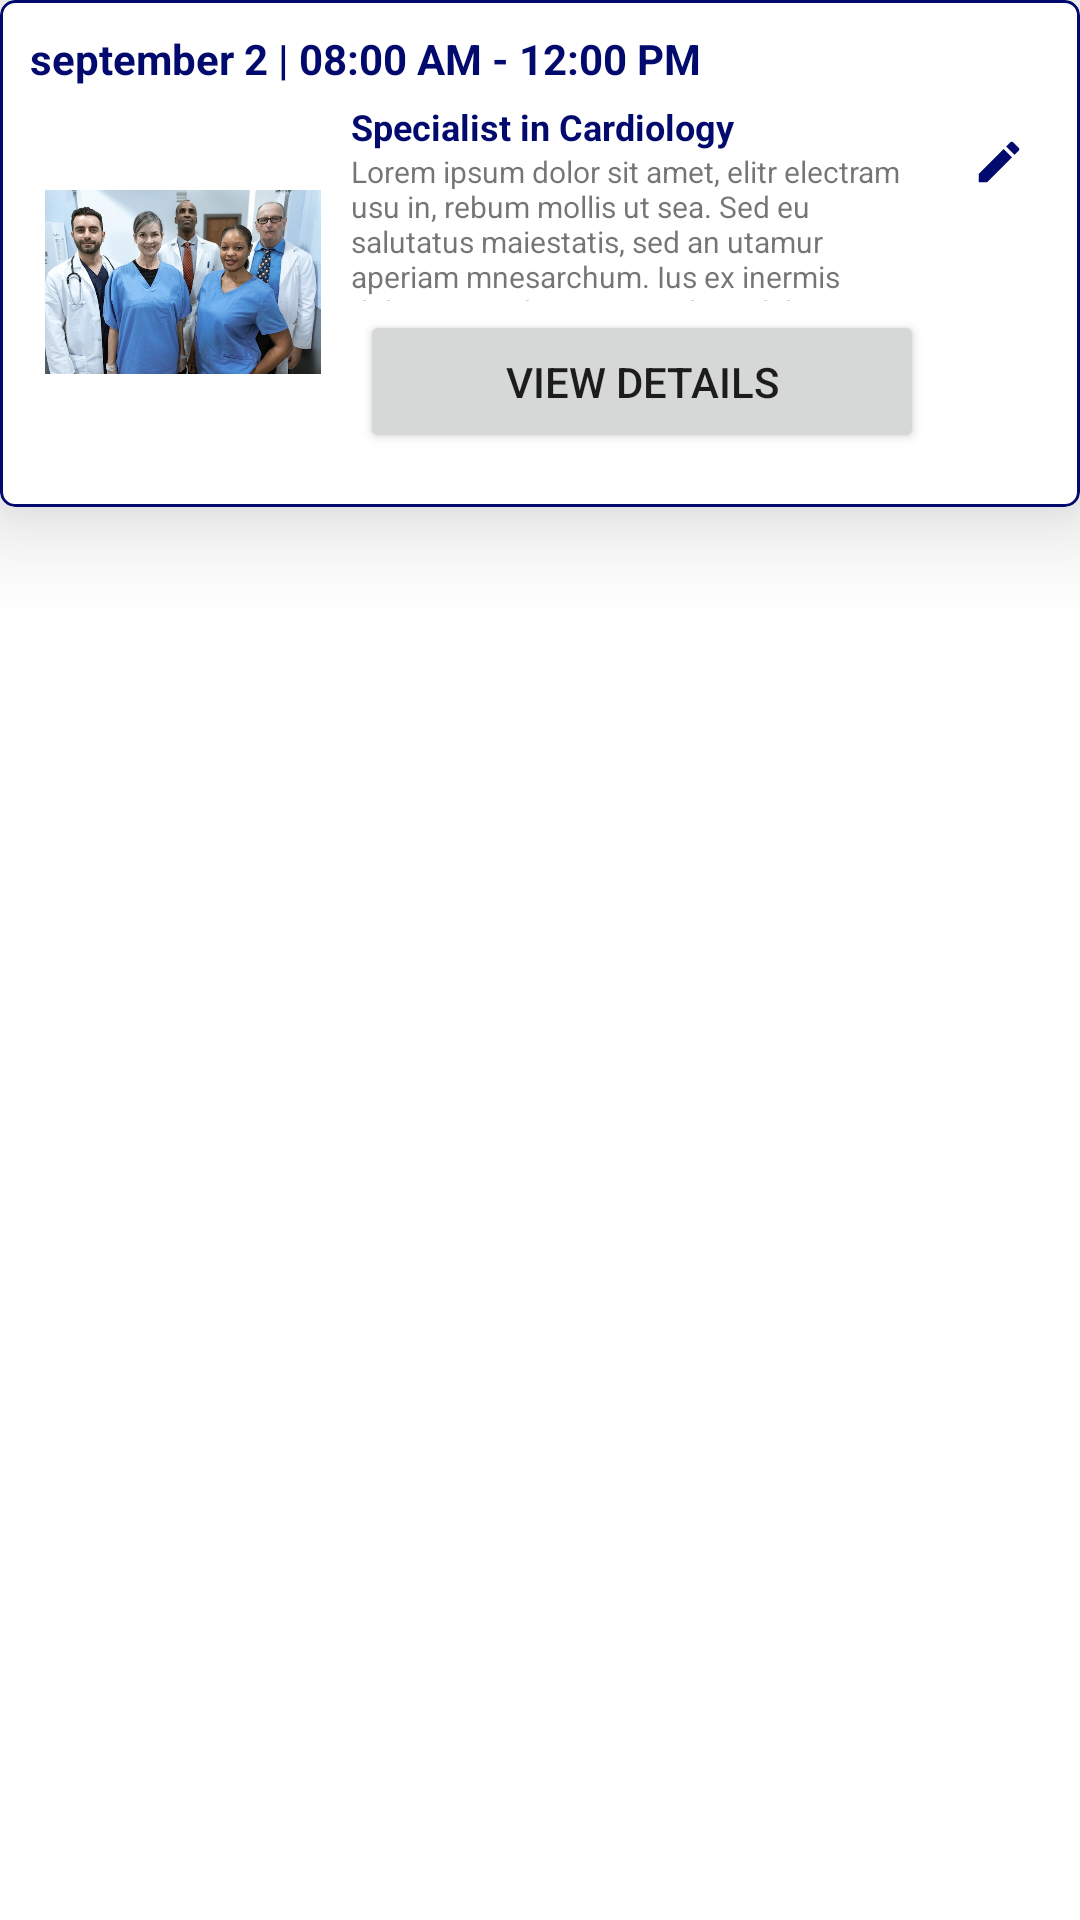

Screen size 1080 × 1920. Icon name, then its center in pixels as [x,y]:
doctors: [183,282]
mode edit: [999,162]
